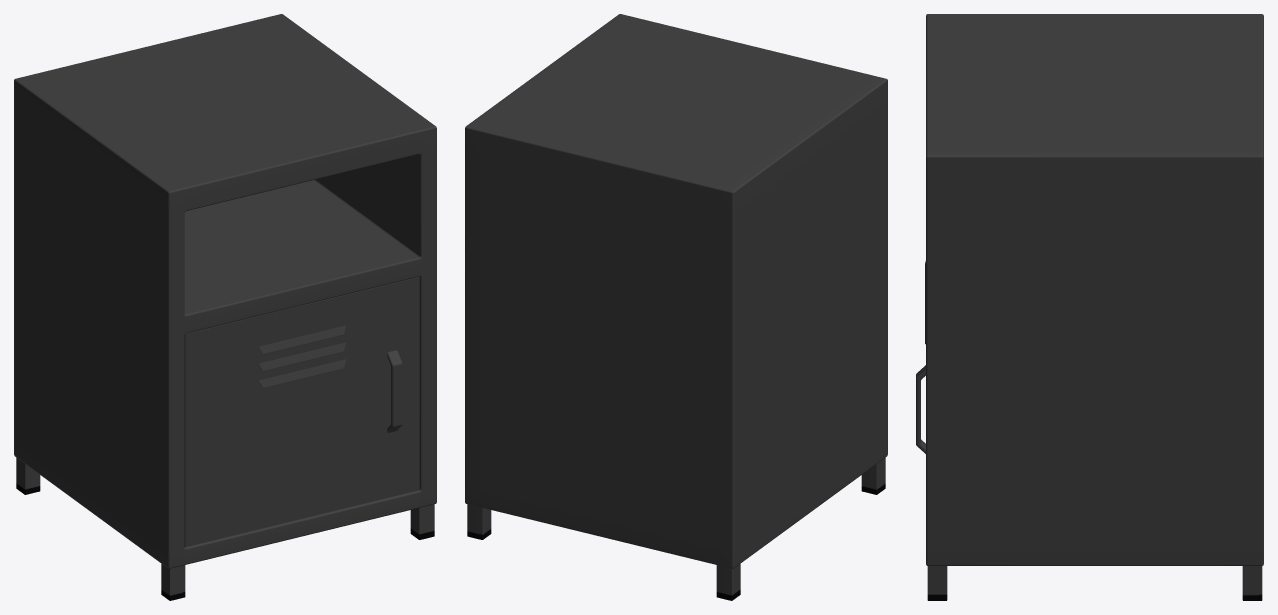
File: file-cabinet.gltf
The picture shows the model from 3 angles, left to right: view 1: azimuth 30°, elevation 25°; view 2: azimuth 150°, elevation 25°; view 3: azimuth 270°, elevation 25°; orthographic projection. The views are drawn at different scales.
Visible parts, largest first — view 1: FileCabinet; view 2: FileCabinet; view 3: FileCabinet.
Part boxes in pixels (left/top/right/bottom): FileCabinet: left=14, top=14, right=436, bottom=600; FileCabinet: left=465, top=14, right=887, bottom=600; FileCabinet: left=916, top=14, right=1263, bottom=600.
Bounding box in the file's own units: 0.35 × 0.51 × 0.3603.
1 material, 1 textured.
